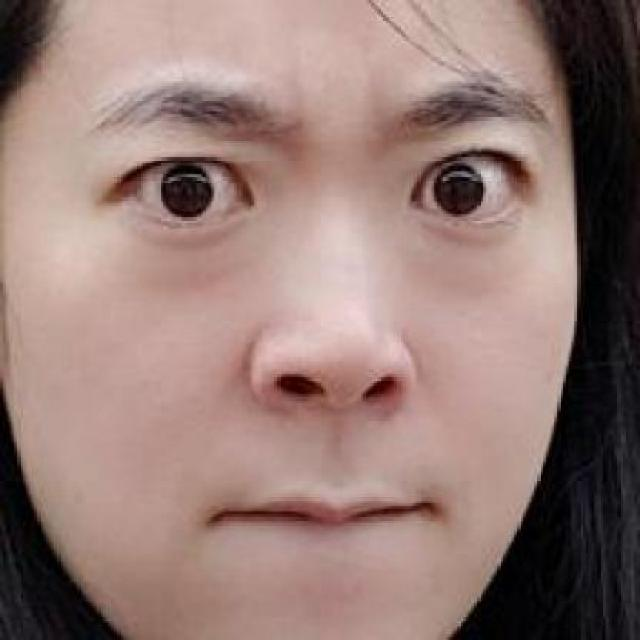angry: (55, 78, 557, 602)
